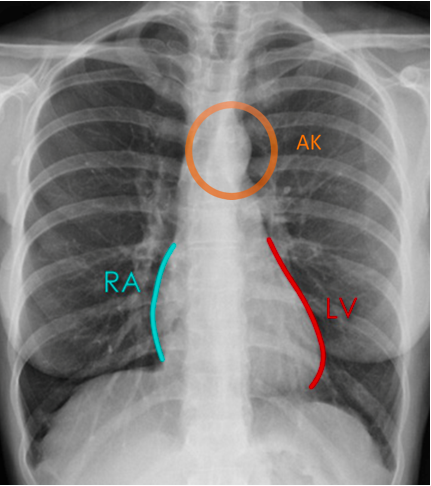telestration: (179, 100, 278, 202), (264, 234, 325, 395), (150, 239, 175, 363), (101, 268, 140, 293), (323, 295, 357, 322), (294, 132, 322, 153)
